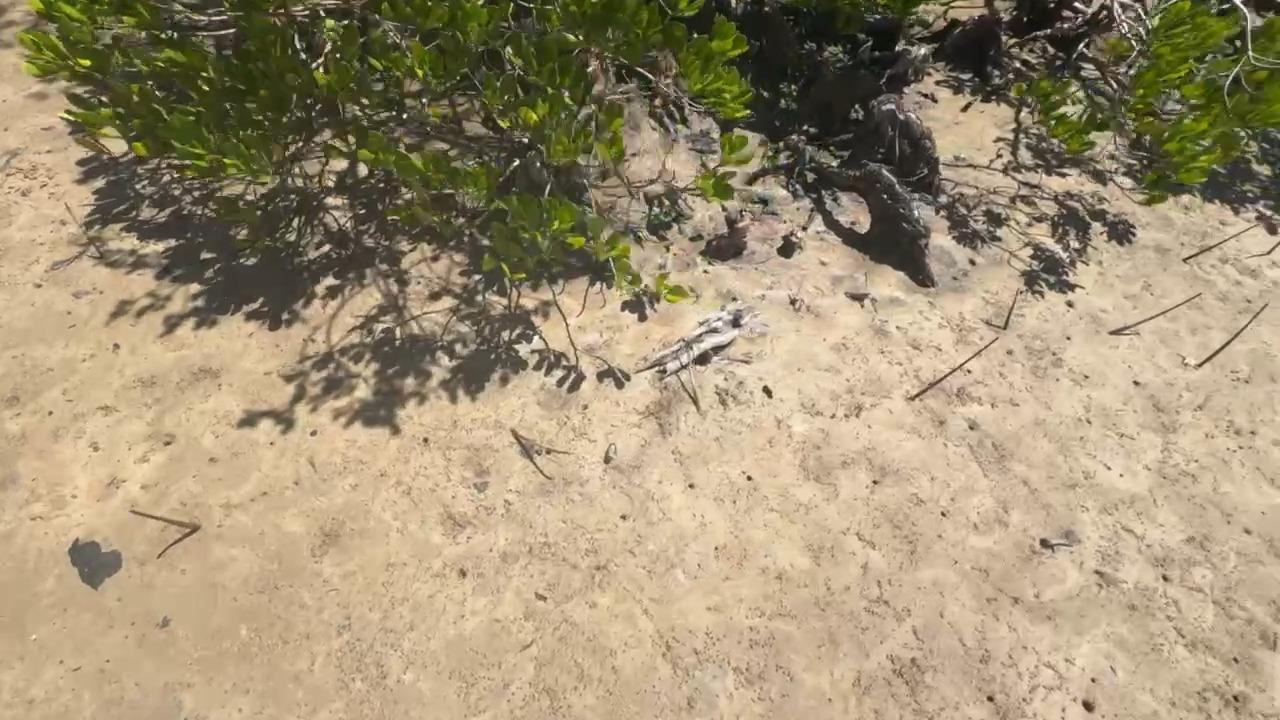Tree: (909, 336, 999, 402), (1196, 305, 1267, 366), (1107, 292, 1203, 334), (1184, 224, 1259, 263), (129, 509, 201, 532), (512, 431, 573, 456), (1004, 286, 1021, 331), (1267, 240, 1280, 255)
